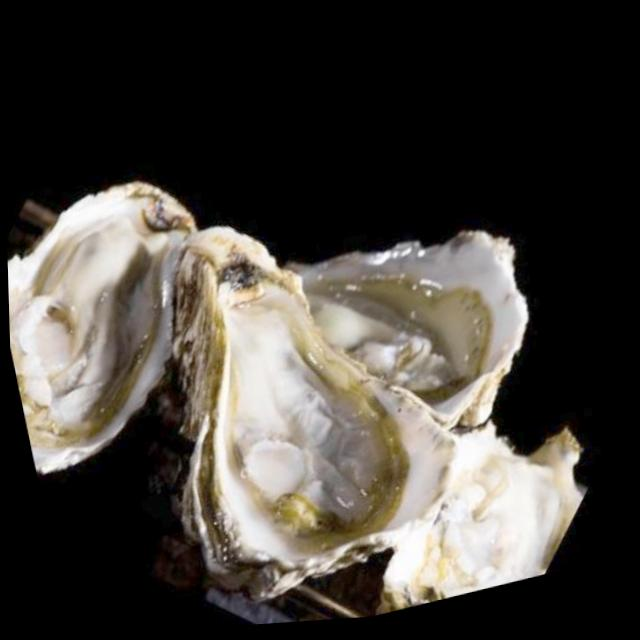Oyster-Open: (169, 223, 462, 605), (8, 182, 198, 478), (292, 230, 531, 431), (376, 427, 586, 613)
